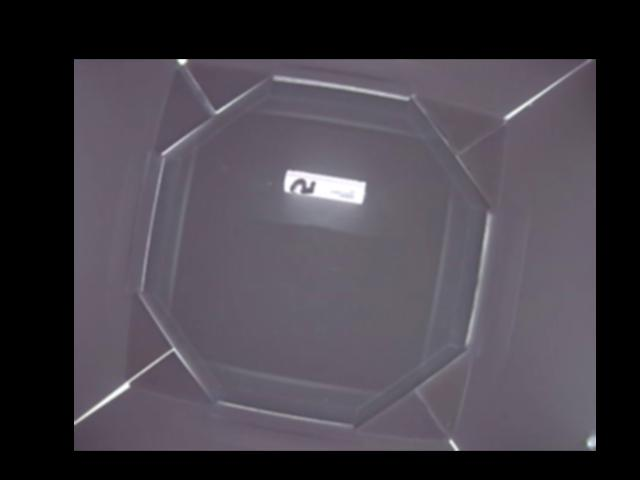Battery: (283, 168, 367, 203)
